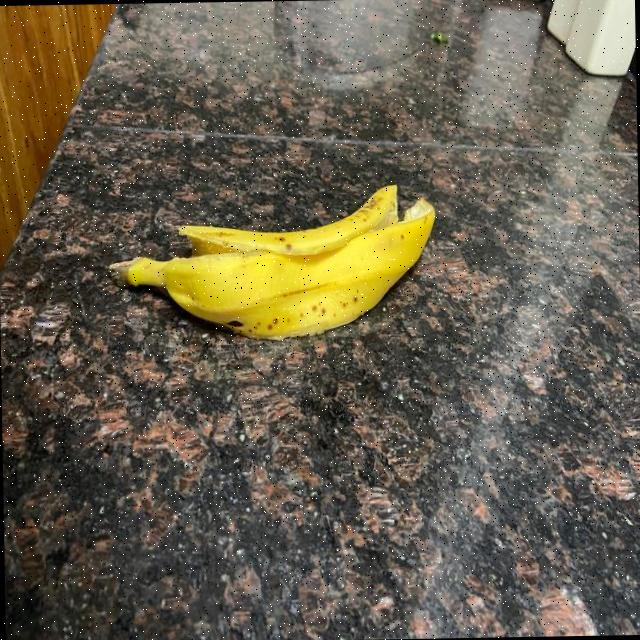banana-peel: (105, 181, 438, 343), (174, 182, 398, 258)
